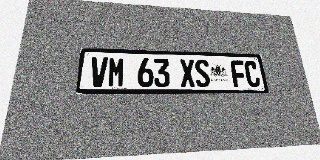3: (154, 58, 170, 87)
6: (138, 58, 154, 87)
C: (243, 61, 261, 87)
F: (230, 60, 247, 87)
M: (107, 57, 125, 87)
S: (194, 59, 211, 87)
V: (89, 57, 108, 87)
X: (179, 59, 196, 87)
